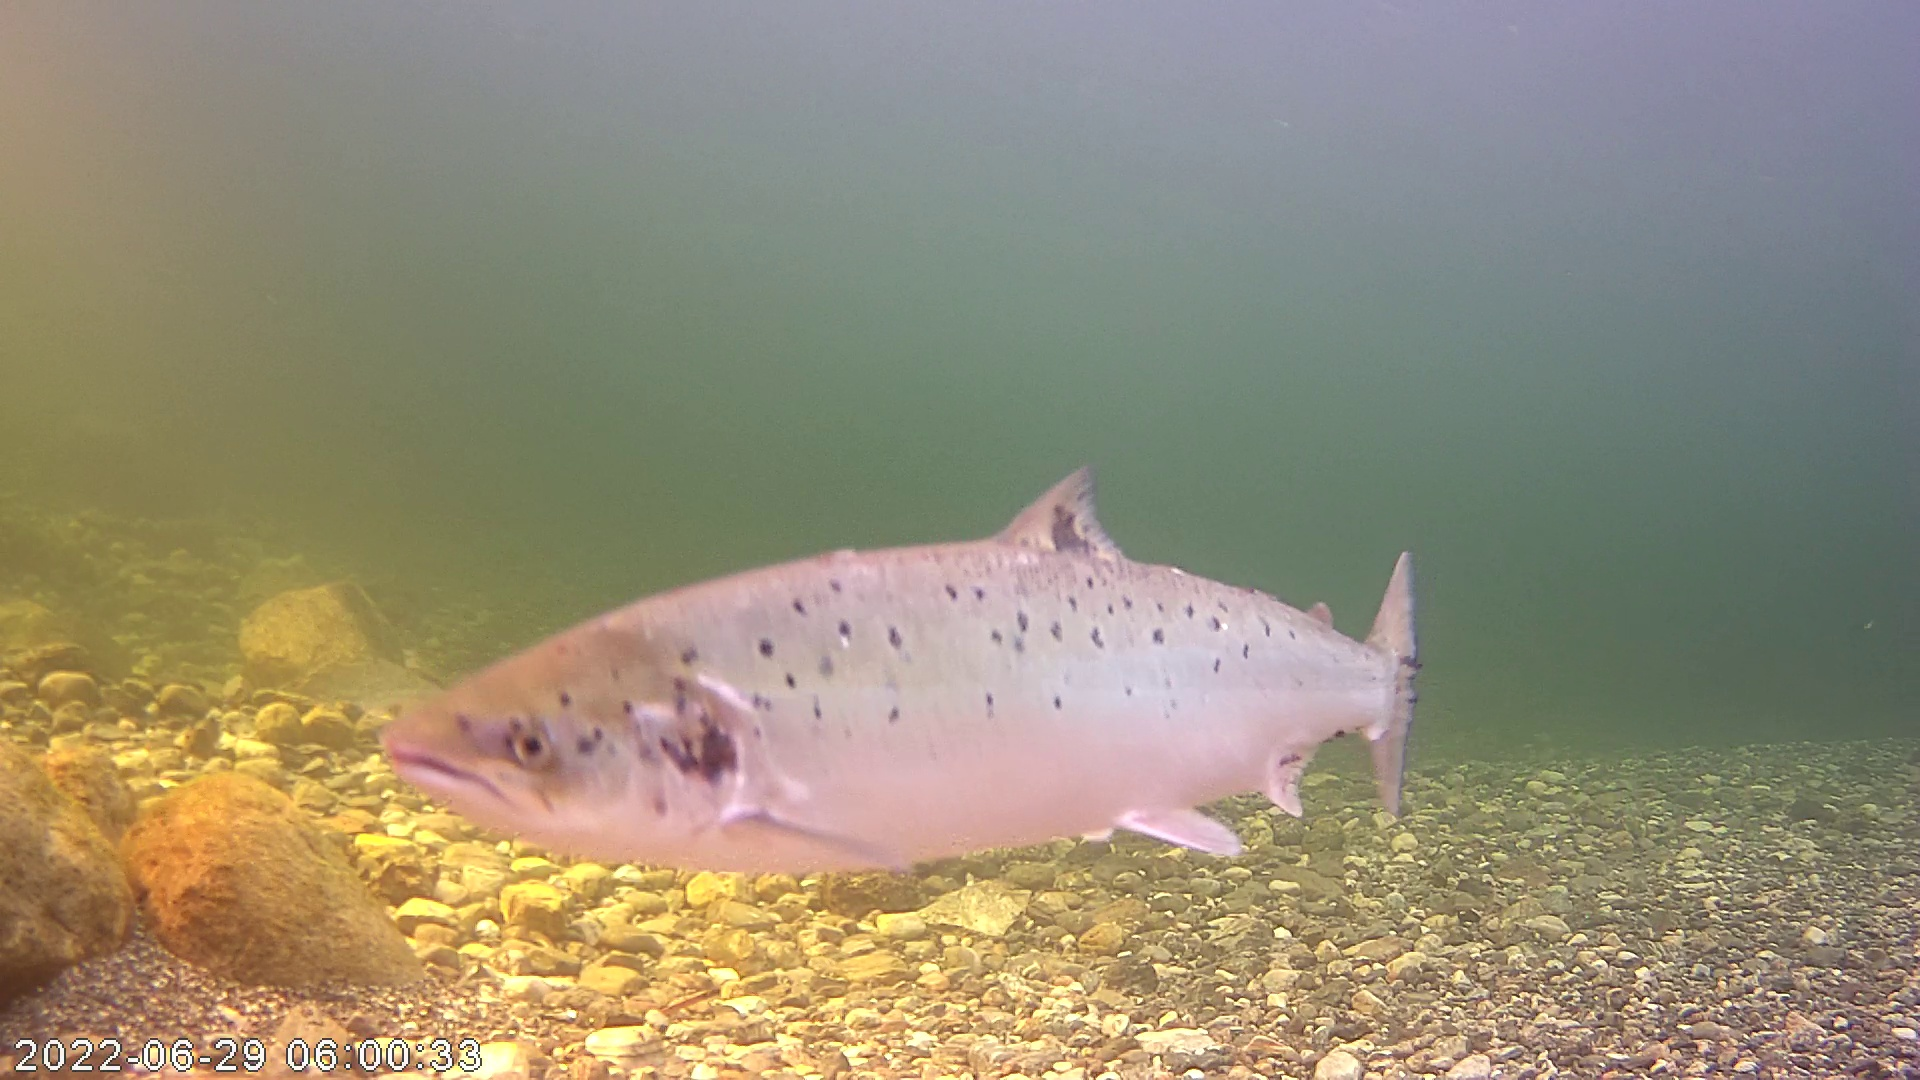salmon: (368, 384, 1435, 866)
